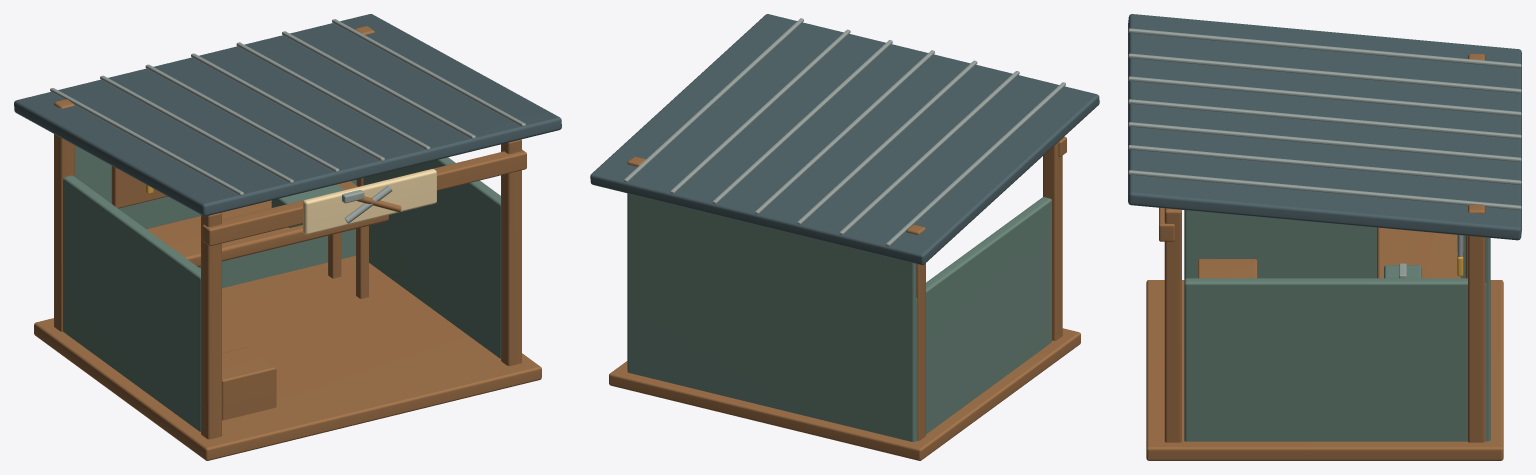
The model's file is workshop.glb.
3 renders of one model, left to right at view 1: azimuth 30°, elevation 25°; view 2: azimuth 150°, elevation 25°; view 3: azimuth 270°, elevation 25°, orthographic. The views are drawn at different scales.
Visible parts, largest first — view 1: Sheet roof, Plinth, Side wall, Side wall.001, Rear wall, Front beam, Post, Post.002, Workbench top, Workshop sign, Crate, Post.001 (+11 smaller); view 2: Sheet roof, Rear wall, Side wall, Plinth, Post, Post.001, Roof rib.004, Roof rib.002, Roof rib.001, Roof rib.005, Roof rib.006, Roof rib.003 (+1 smaller); view 3: Sheet roof, Side wall.001, Plinth, Side wall, Post.002, Post.003, Workbench top, Roof rib.002, Roof rib, Roof rib.004, Roof rib.005, Roof rib.003 (+5 smaller).
Boxes of the visible parts, x1,y1,x2,y2 form: Sheet roof: [14, 14, 561, 216]; Plinth: [34, 256, 541, 460]; Side wall: [63, 175, 200, 431]; Side wall.001: [363, 157, 500, 358]; Rear wall: [75, 145, 356, 288]; Front beam: [202, 149, 526, 246]; Post: [201, 212, 221, 439]; Post.002: [501, 139, 521, 365]; Workbench top: [146, 181, 388, 267]; Workshop sign: [303, 169, 436, 234]; Crate: [222, 347, 276, 420]; Post.001: [54, 99, 74, 331]; Sheet roof: [590, 14, 1099, 264]; Rear wall: [627, 193, 916, 441]; Side wall: [915, 197, 1051, 440]; Plinth: [609, 328, 1080, 460]; Post: [1043, 138, 1062, 340]; Post.001: [906, 224, 925, 440]; Roof rib.004: [712, 40, 892, 204]; Roof rib.002: [797, 60, 977, 224]; Roof rib.001: [839, 71, 1019, 235]; Roof rib.005: [670, 29, 850, 193]; Roof rib.006: [624, 18, 803, 182]; Roof rib.003: [755, 50, 934, 214]; Sheet roof: [1128, 14, 1521, 240]; Side wall.001: [1184, 278, 1486, 441]; Plinth: [1146, 280, 1503, 460]; Side wall: [1184, 210, 1465, 279]; Post.002: [1164, 208, 1181, 442]; Post.003: [1468, 204, 1485, 442]; Workbench top: [1377, 227, 1461, 278]; Roof rib.002: [1128, 76, 1521, 116]; Roof rib: [1128, 28, 1521, 68]; Roof rib.004: [1128, 122, 1521, 162]; Roof rib.005: [1128, 145, 1521, 184]; Roof rib.003: [1128, 99, 1521, 139].
Bounding box in the file's own units: 3.95 × 2.83 × 3.64.
